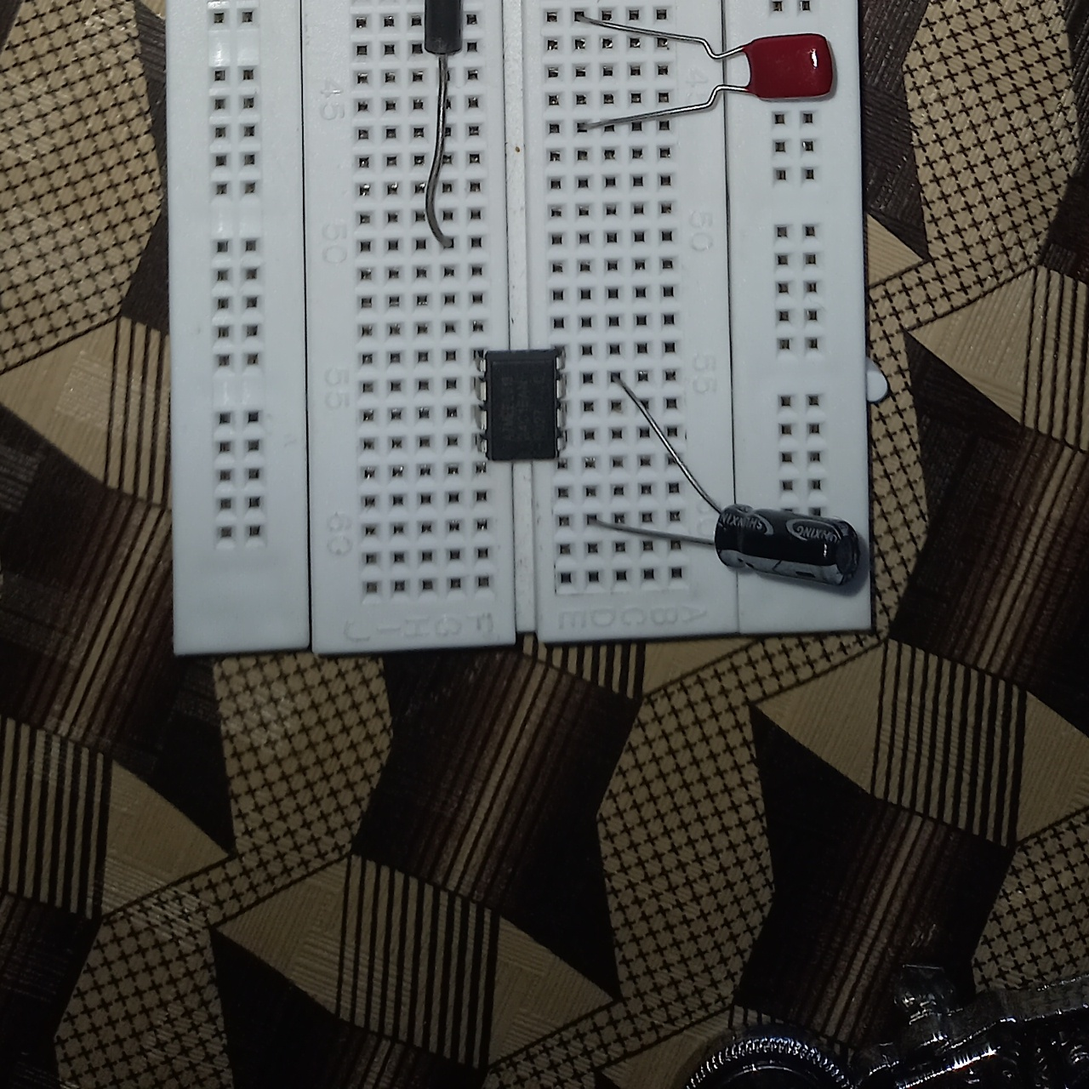capacitor: (715, 504, 864, 589), (741, 33, 836, 101)
